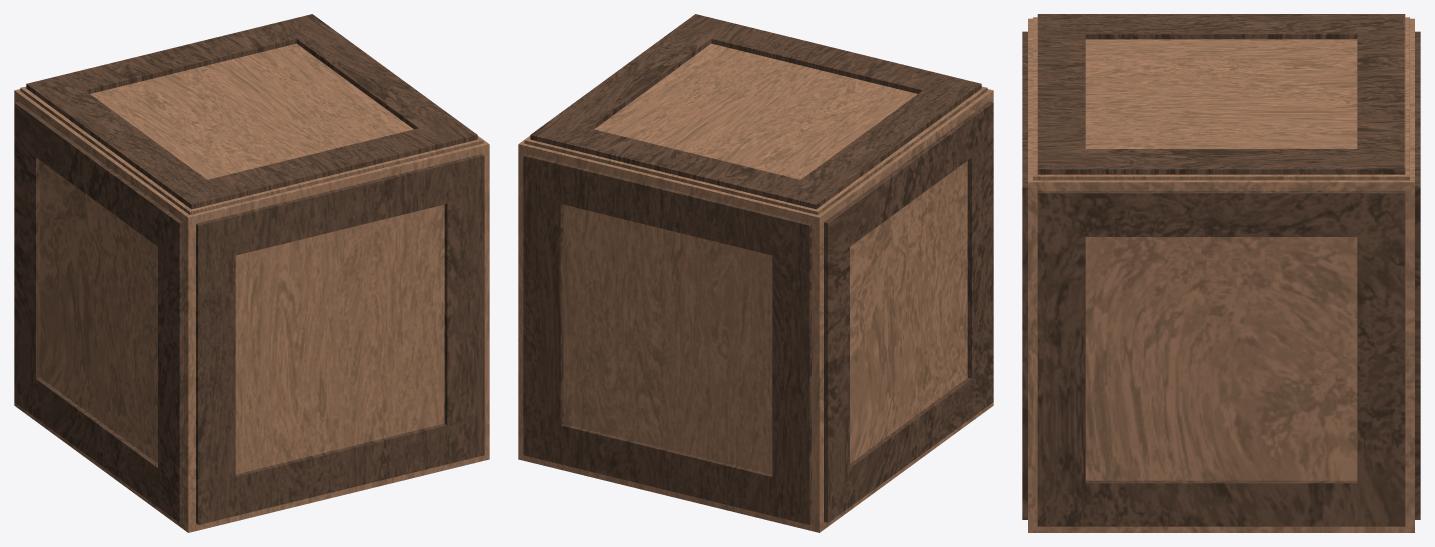
The model's file is container.fbx.
The picture shows the model from 3 angles, left to right: view 1: azimuth 30°, elevation 25°; view 2: azimuth 150°, elevation 25°; view 3: azimuth 270°, elevation 25°; orthographic projection. The views are drawn at different scales.
Visible parts, largest first — view 1: Cube.100, Plane.004; view 2: Cube.100, Plane.004; view 3: Cube.100, Plane.004.
Part boxes in pixels (<box>): Cube.100: <box>14,89,489,532</box>; Plane.004: <box>20,14,483,214</box>; Cube.100: <box>518,89,993,532</box>; Plane.004: <box>524,14,987,214</box>; Cube.100: <box>1022,18,1420,532</box>; Plane.004: <box>1033,14,1409,180</box>.
Size of the model in its own units: 275 by 274 by 275.
